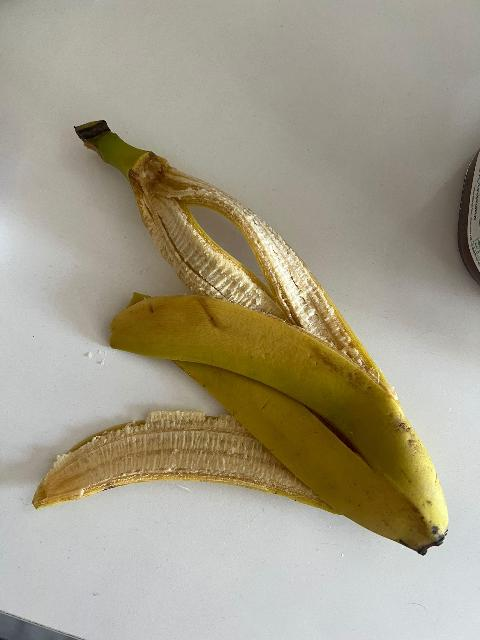Organik: (36, 119, 458, 552)
